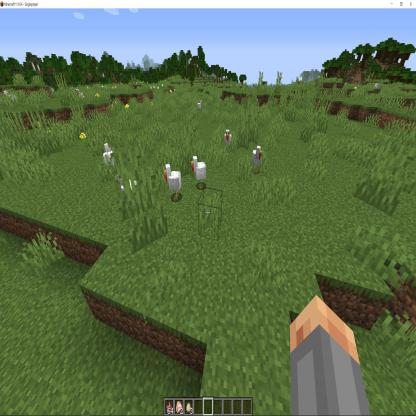minecraft-pigs: (161, 162, 183, 207), (119, 172, 140, 212), (189, 157, 207, 190), (104, 141, 116, 178), (252, 140, 263, 177), (2, 89, 16, 107), (224, 129, 232, 151), (74, 87, 84, 103), (196, 97, 205, 114)
